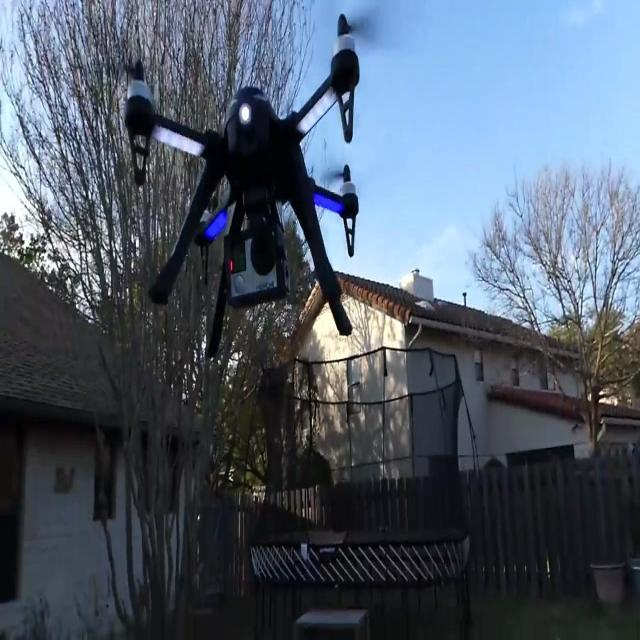drone: (122, 12, 363, 361)
